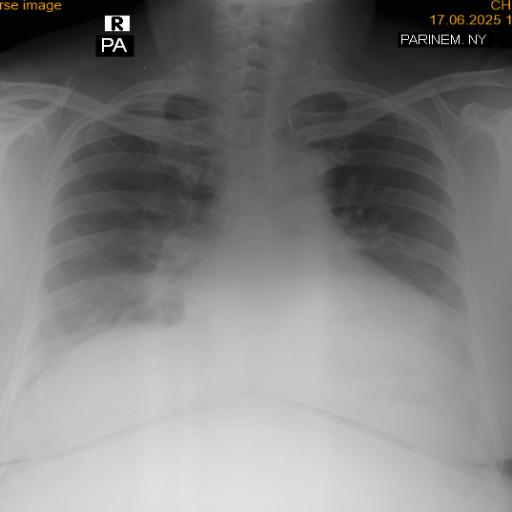kardiomegali: (1, 56, 499, 414)
